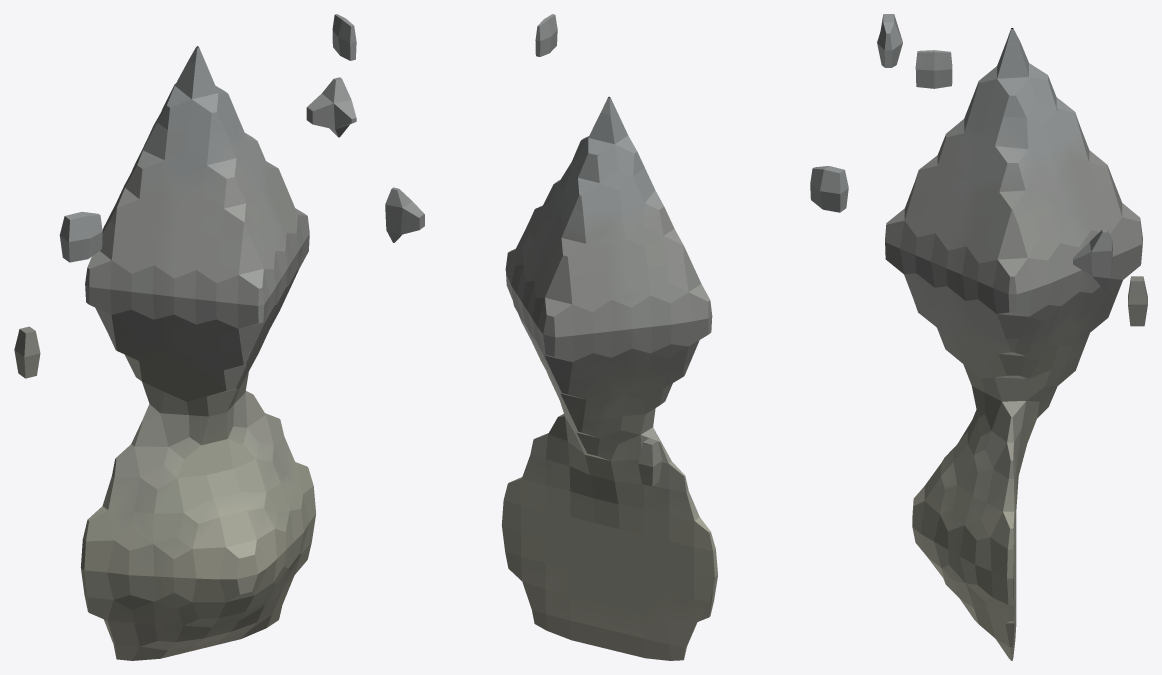
The model's file is windElemental.glb.
The picture shows the model from 3 angles, left to right: view 1: azimuth 30°, elevation 25°; view 2: azimuth 150°, elevation 25°; view 3: azimuth 270°, elevation 25°; orthographic projection. The views are drawn at different scales.
Visible parts, largest first — view 1: geometry_0; view 2: geometry_0; view 3: geometry_0.
Part boxes in pixels (<box>): geometry_0: <box>14,14,356,660</box>; geometry_0: <box>385,14,848,660</box>; geometry_0: <box>877,14,1147,660</box>.
Size of the model in its own units: 0.6023 by 0.9325 by 0.3635.
Materials: 1 (1 with a texture image).
